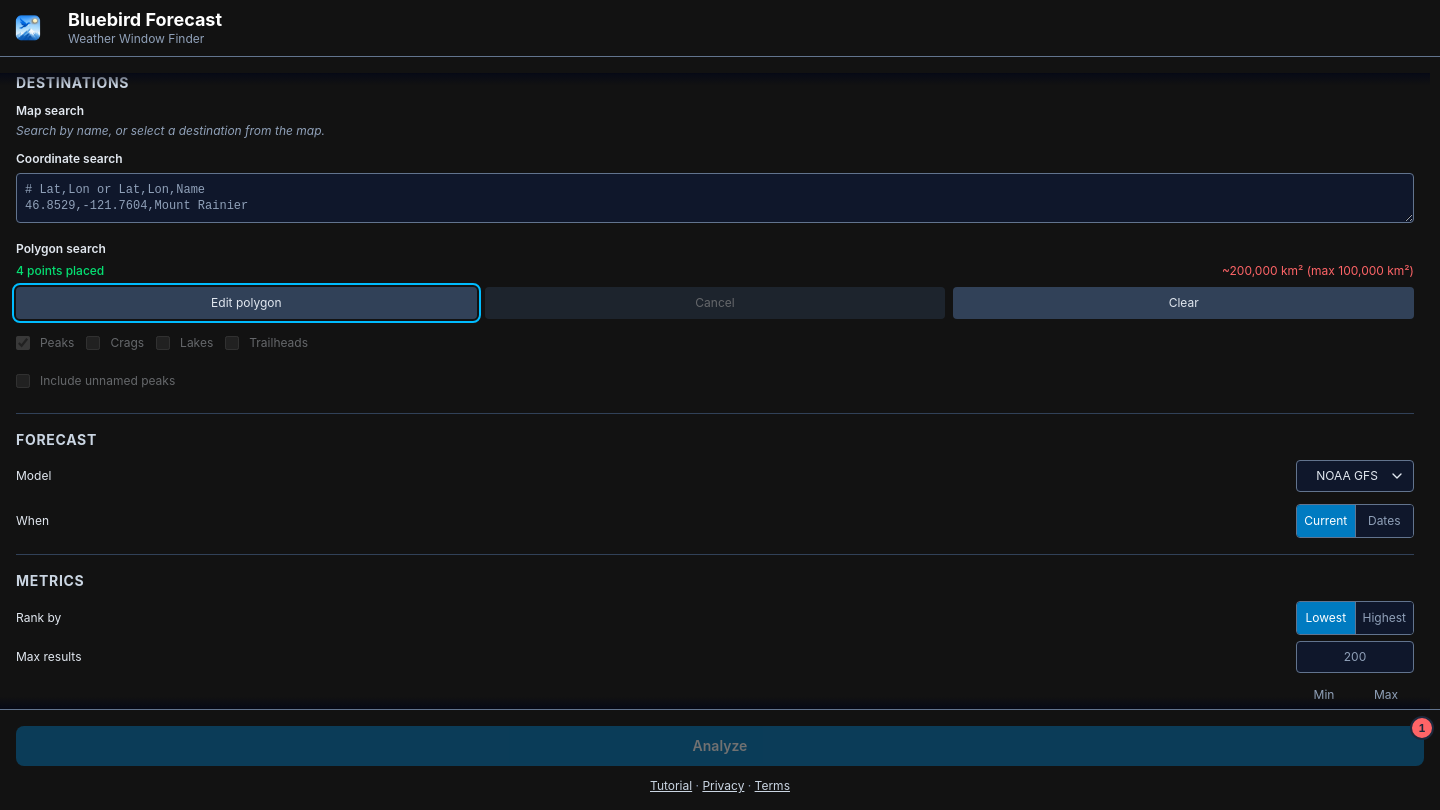
Scenario: the Analyze button › is greyed for a polygon over the area cap, counts it in red, and lists it from the button
Click the button "Analyze": coordinates (720, 746) [16,726,1424,766]
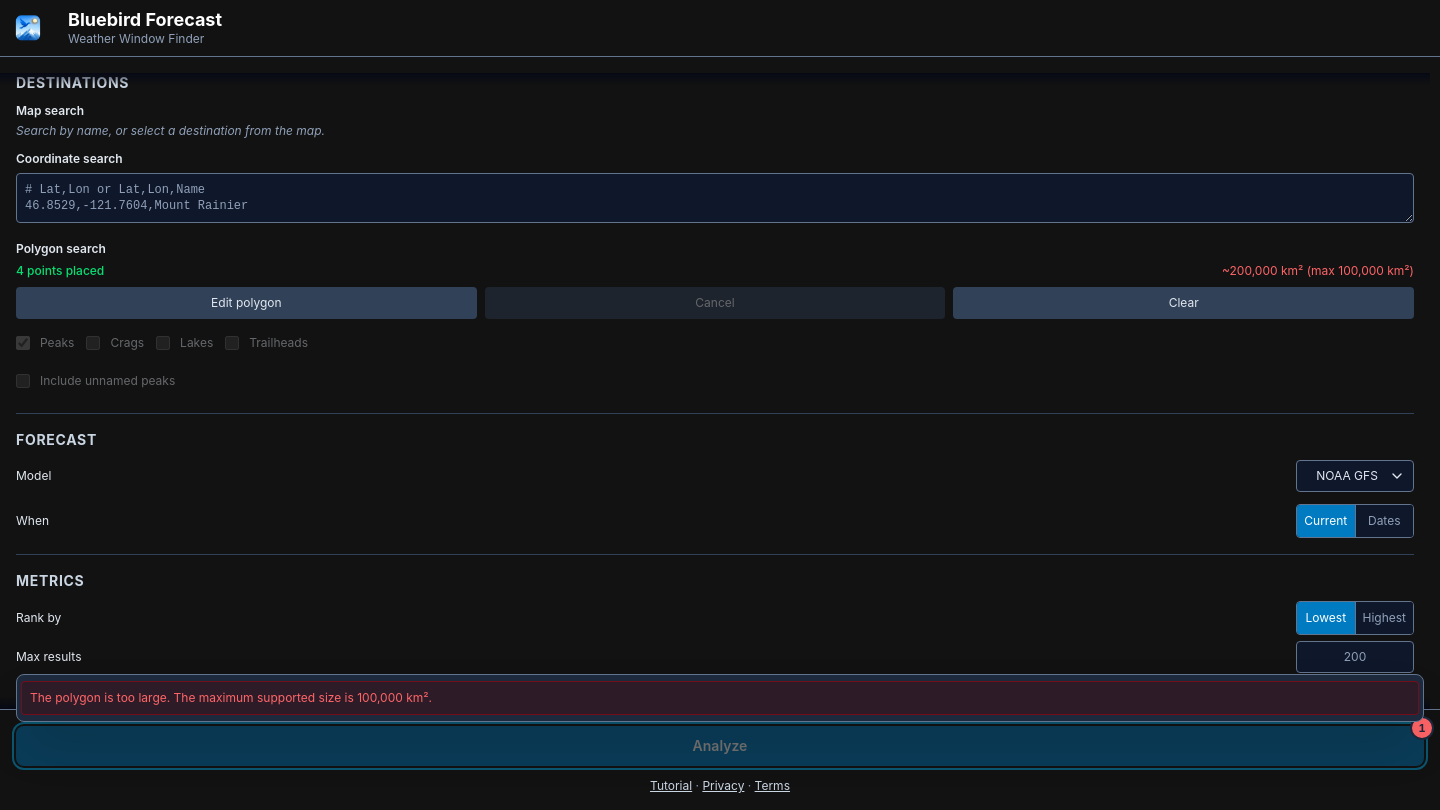
Now the text "polygon is too large" is shown, box [30,690,432,705]
